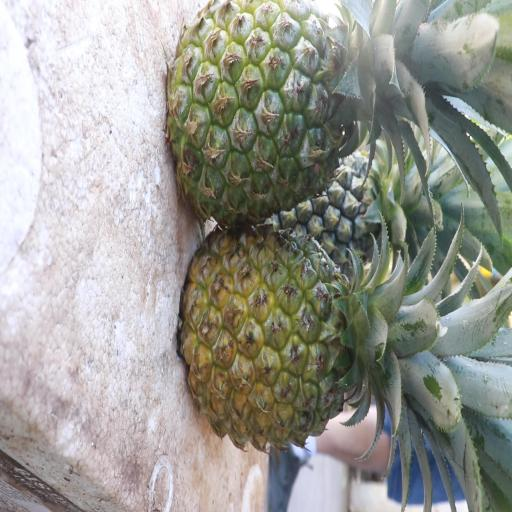------------------------------: (169, 4, 393, 220)
Pineapple - v8 v1: (184, 233, 394, 450)
